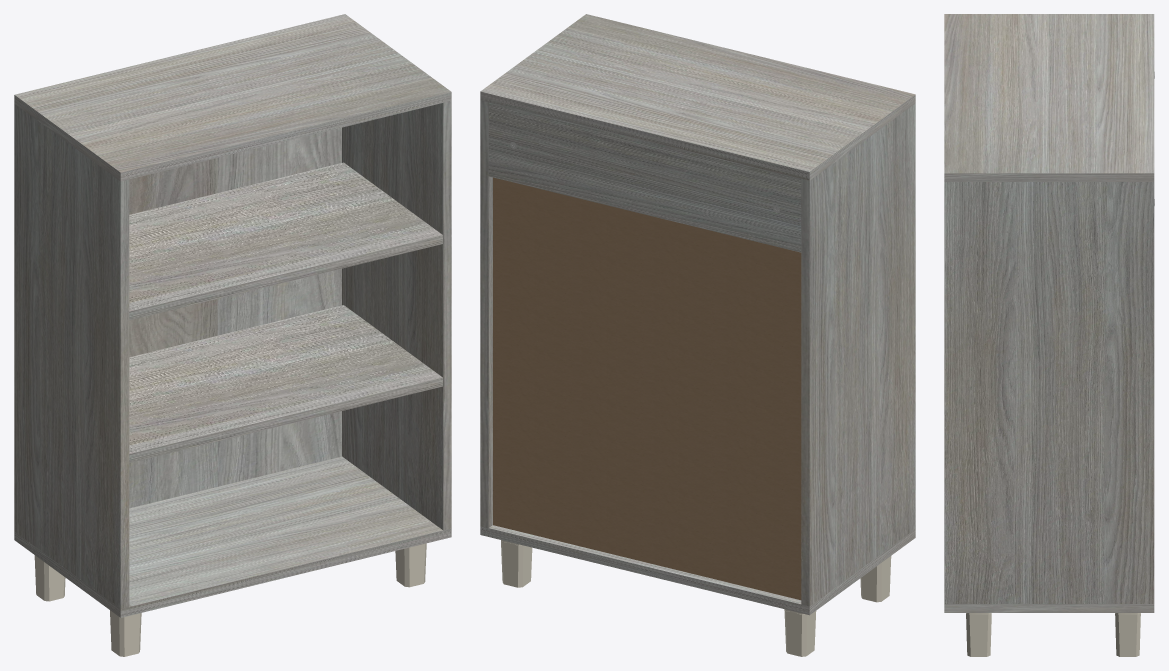
3 renders of one model, left to right at view 1: azimuth 30°, elevation 25°; view 2: azimuth 150°, elevation 25°; view 3: azimuth 270°, elevation 25°, orthographic.
Visible parts, largest first — view 1: Cube, Cube.006, Cube.005, Cube.007, Cube.008, group_0.365, Cube.002, Cube.001, Cube.003; view 2: group_0.365, Cube, Cube.006, Cube.005, Cube.003, Cube.004, Cube.002; view 3: Cube, Cube.006, Cube.005, Cube.004, Cube.001.
Boxes of the visible parts, box(x1,y1,x2,y2) form: Cube: box(14, 101, 451, 608); Cube.006: box(14, 14, 451, 181); Cube.005: box(14, 456, 451, 617); Cube.007: box(129, 162, 442, 320); Cube.008: box(129, 305, 442, 462); group_0.365: box(129, 127, 341, 508); Cube.002: box(110, 610, 141, 656); Cube.001: box(395, 543, 426, 587); Cube.003: box(34, 555, 65, 601); group_0.365: box(493, 177, 801, 600); Cube: box(480, 100, 915, 606); Cube.006: box(480, 14, 915, 180); Cube.005: box(480, 525, 915, 615); Cube.003: box(784, 609, 816, 656); Cube.004: box(501, 540, 532, 587); Cube.002: box(860, 556, 891, 602); Cube: box(944, 182, 1154, 603); Cube.006: box(944, 14, 1154, 181); Cube.005: box(944, 604, 1154, 612); Cube.004: box(1115, 613, 1140, 656); Cube.001: box(966, 613, 991, 656).
Bounding box in the file's own units: 0.7 × 1 × 0.3904.
5 materials, 3 textured.
